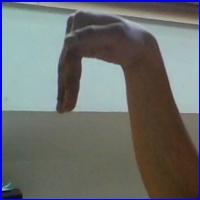del: (54, 6, 157, 118)
